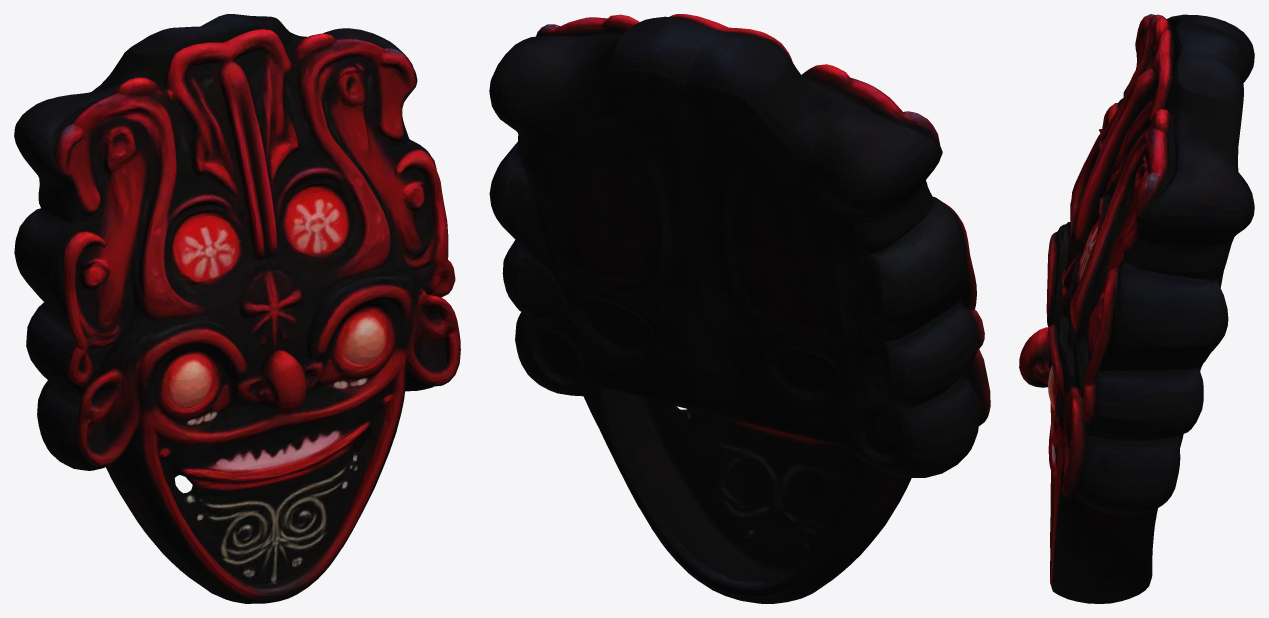
The model's file is topeng-transformed.glb.
The picture shows the model from 3 angles, left to right: view 1: azimuth 30°, elevation 25°; view 2: azimuth 150°, elevation 25°; view 3: azimuth 270°, elevation 25°; orthographic projection. The views are drawn at different scales.
Parts seen in each view (by area): view 1: geometry_0; view 2: geometry_0; view 3: geometry_0.
Boxes of the visible parts, <box> form: geometry_0: <box>14,14,460,603</box>; geometry_0: <box>489,14,990,603</box>; geometry_0: <box>1019,14,1254,603</box>.
Bounding box in the file's own units: 0.769 × 0.9958 × 0.3886.
Materials: 1 (1 with a texture image).
